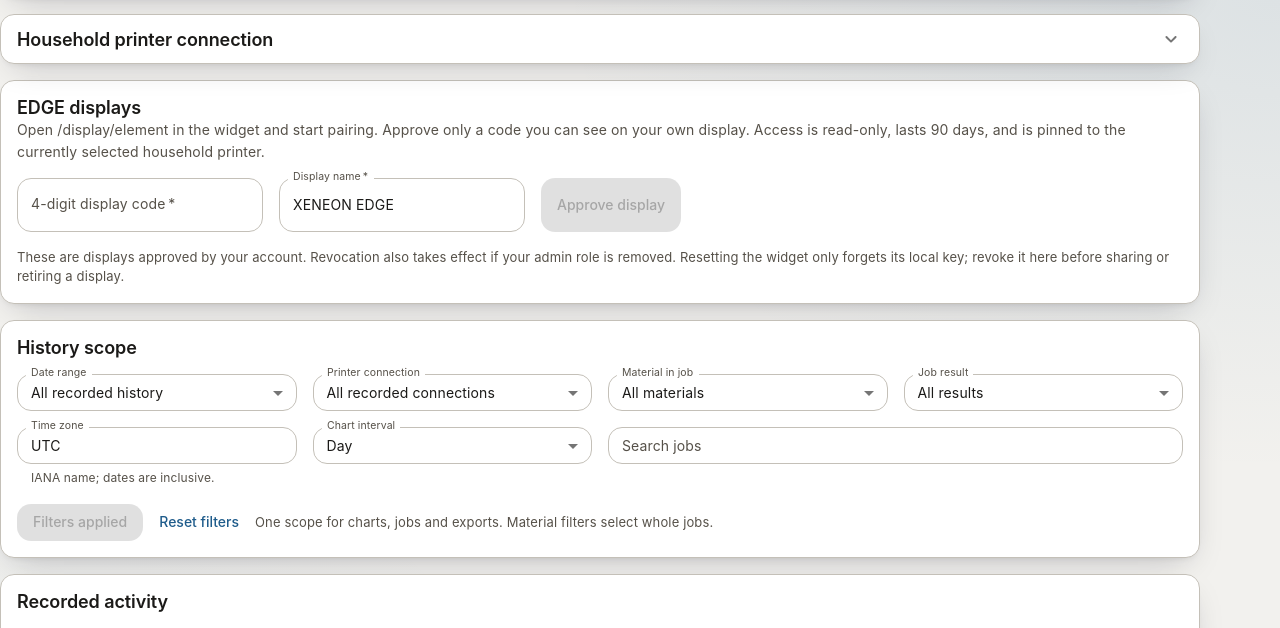
Test: filters update the URL, chart totals and ledger from the same request scope
The image size is (1280, 628).
(page scrolled)
Click the dropdown named "Job result".
click(951, 392)  # box [918,384,984,401]
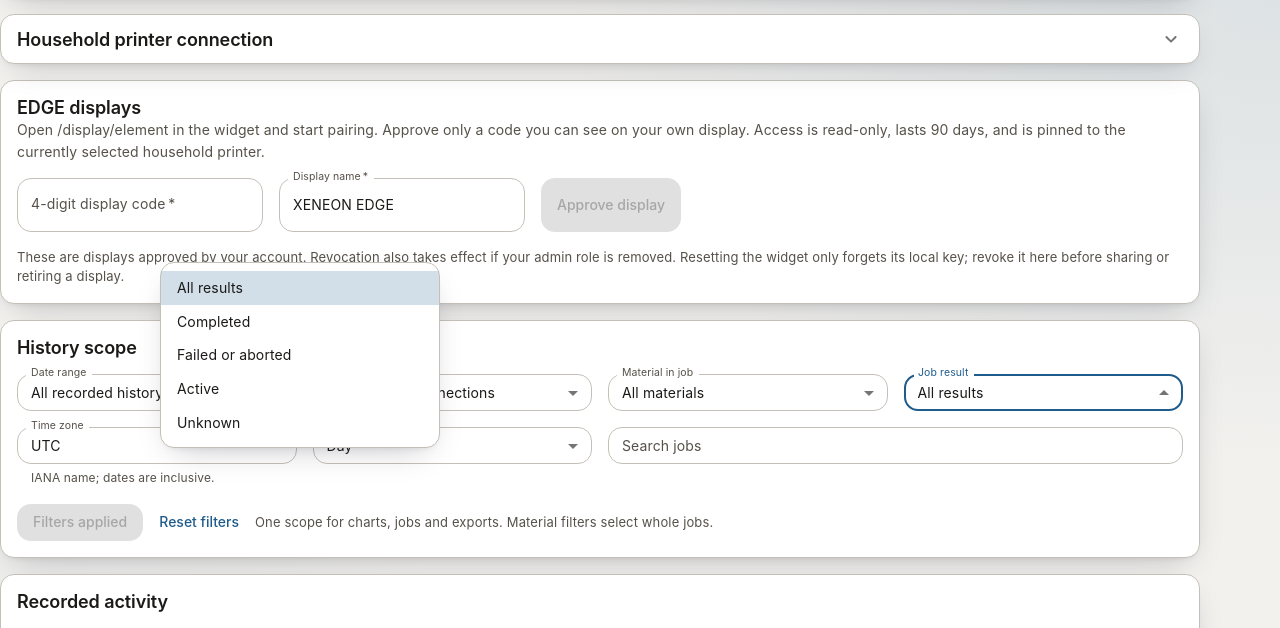
Click the option "Failed or aborted".
click(234, 355)  # box [177,346,292,363]
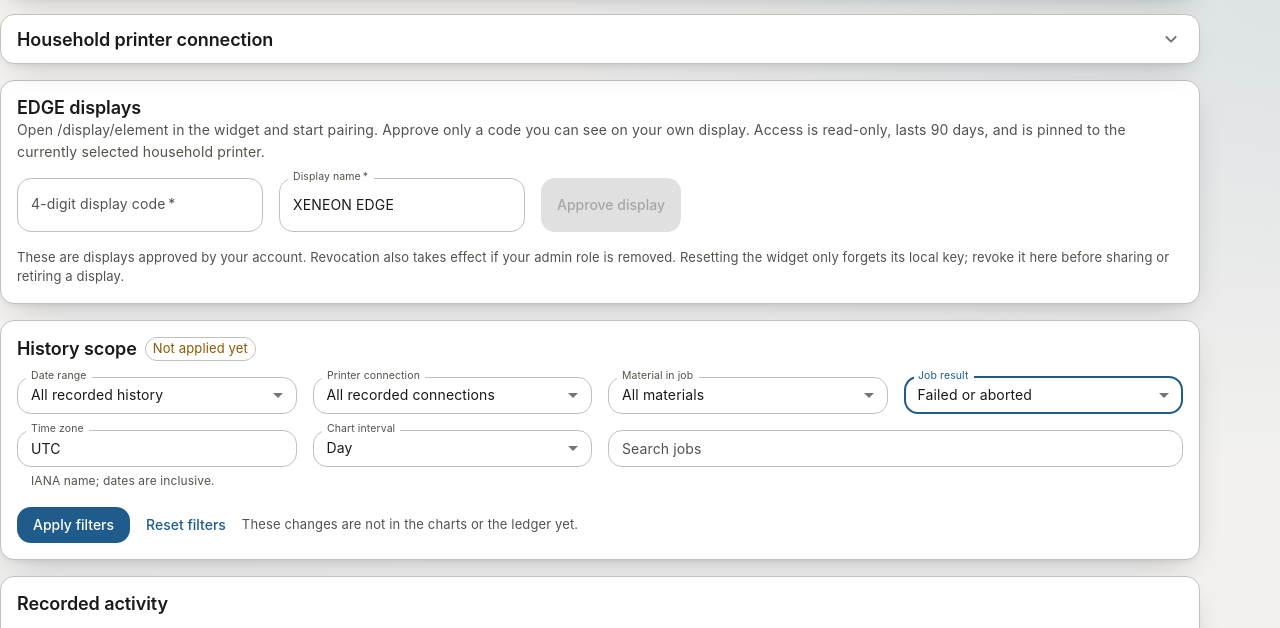
Click the button "Apply filters".
click(74, 525)  # box [17,507,130,543]
(page scrolled)
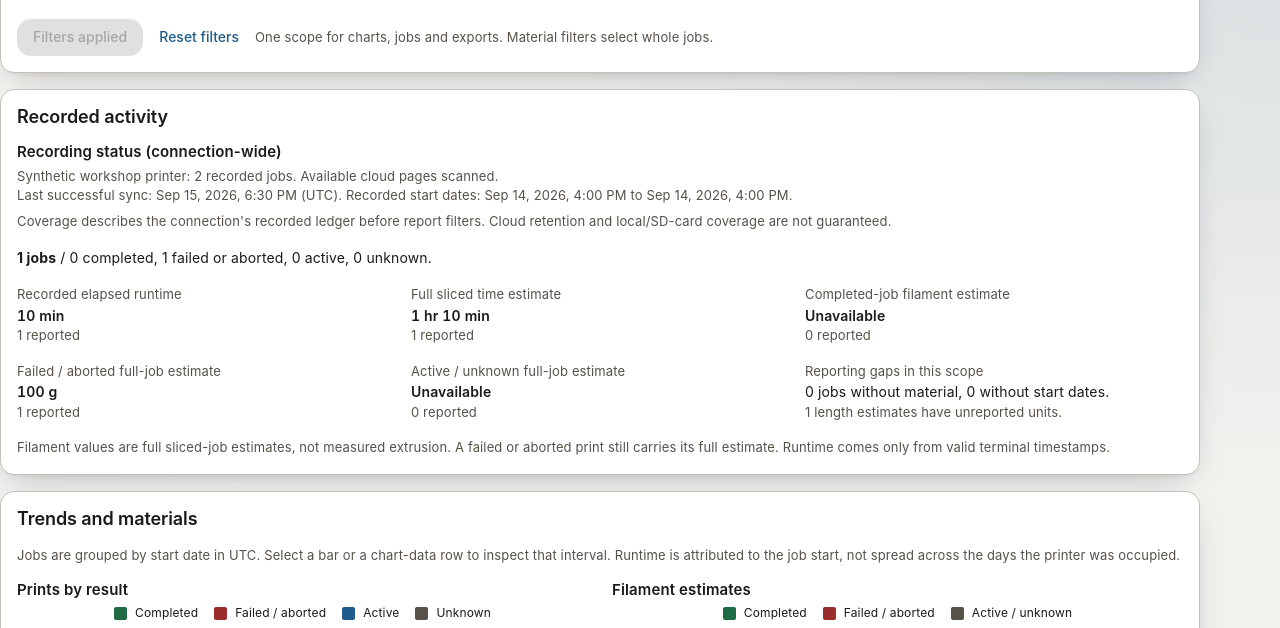
Check: the text "100 g" is shown, box [17,383,57,400]
Check: the text "1 jobs" is shown, box [17,249,56,266]
